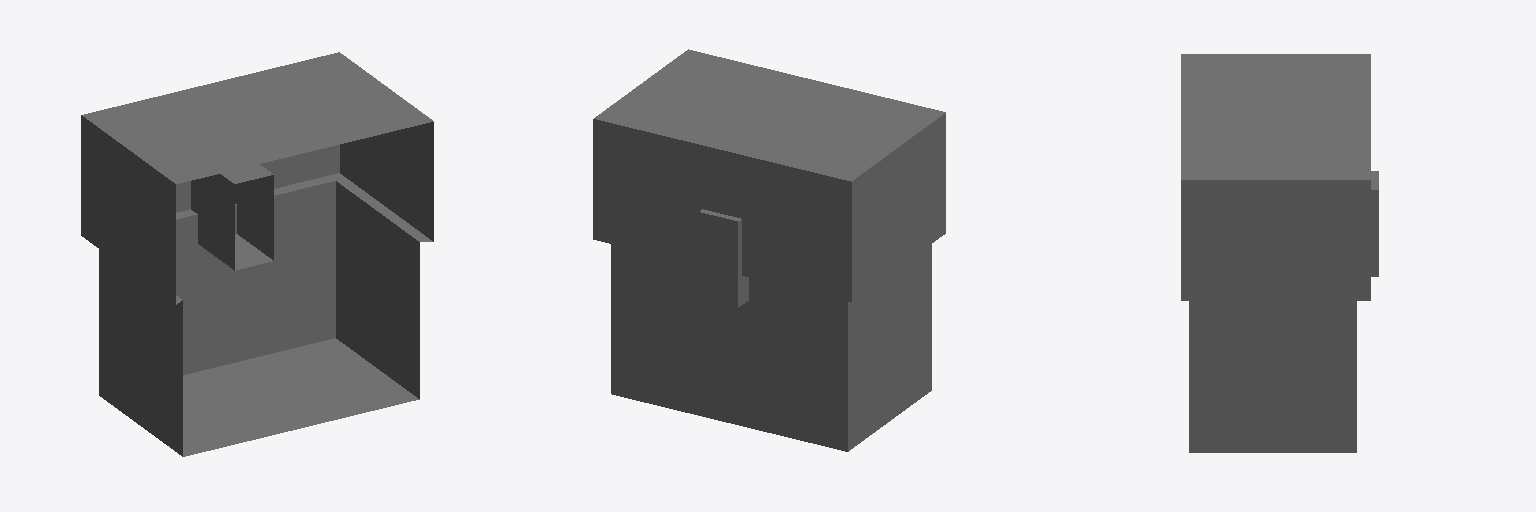
Rendered from Backpack.obj.
The picture shows the model from 3 angles: view 1: azimuth 30°, elevation 25°; view 2: azimuth 150°, elevation 25°; view 3: azimuth 270°, elevation 25°; orthographic projection.
Visible parts, largest first — view 1: Bag, Bag Buckle; view 2: Bag, Bag Buckle; view 3: Bag, Bag Buckle.
Part boxes in pixels (x1,y1,x2,y2): Bag: (81,52,433,456); Bag Buckle: (191,164,273,270); Bag: (593,49,945,451); Bag Buckle: (699,209,748,307); Bag: (1181,54,1370,452); Bag Buckle: (1371,171,1378,276).
Size of the model in its own units: 3.13 by 3.22 by 2.07.